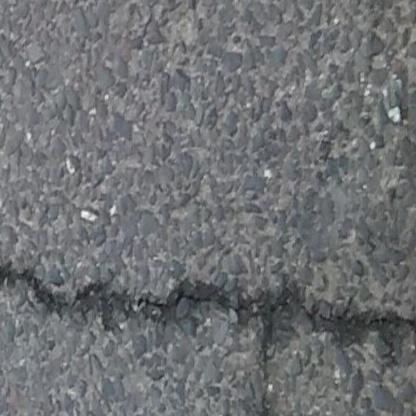Cracks: (0, 234, 416, 379)
